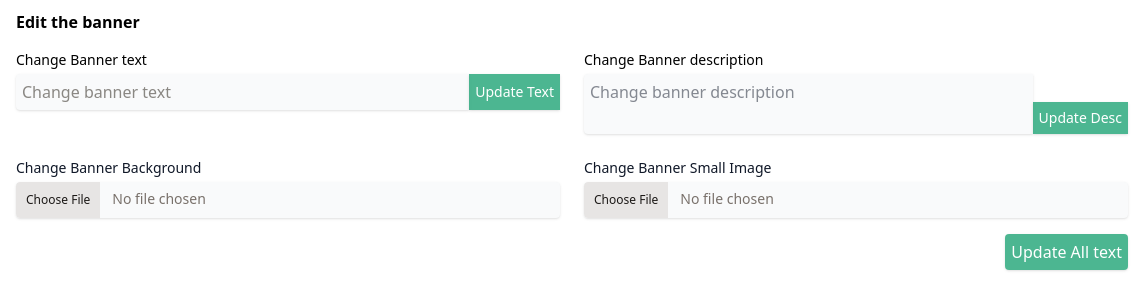
Test: Form Component › enables the 'Update Desc' button when bannerDesc is changed
The width and height of the screenshot is (1145, 288).
Type "New Description" into the text box with placeholder "Change Banner description" at point(808, 104), box [584, 74, 1032, 134]
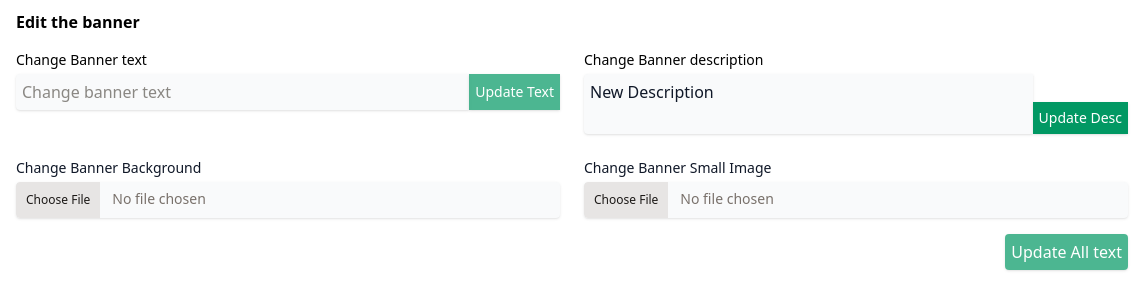
expect the button "Update Desc" is enabled: met, box [1032, 102, 1128, 134]
